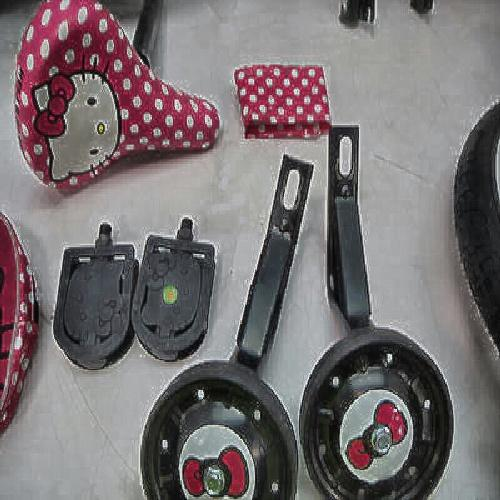bicycle: (27, 10, 226, 183)
